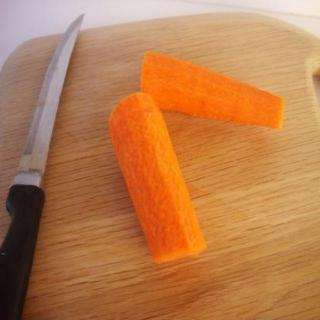carrot: (106, 96, 208, 266), (140, 46, 284, 130)
